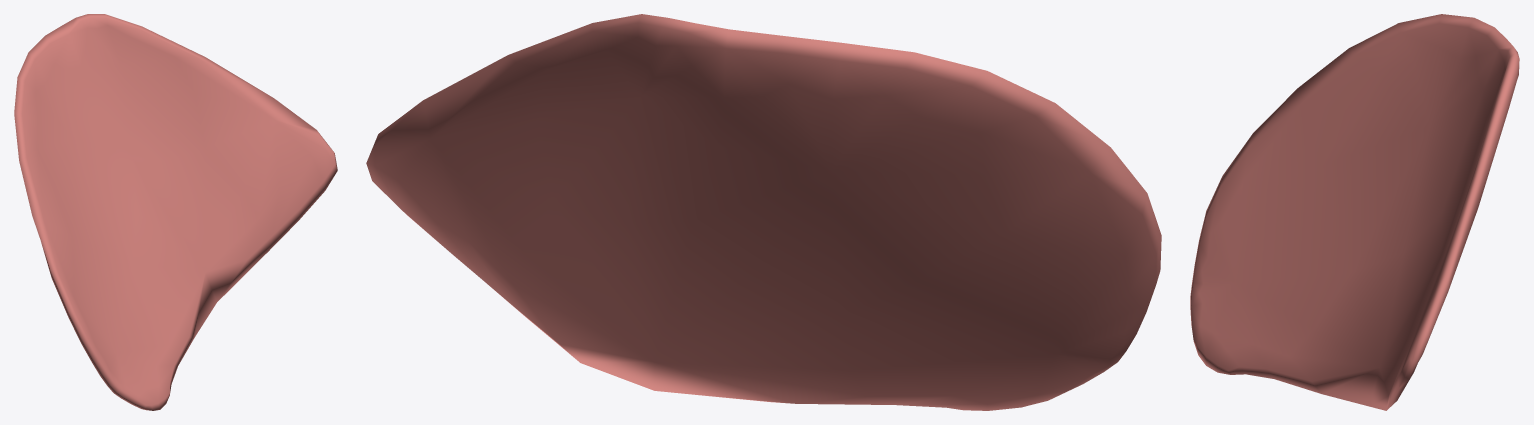
3 renders of one model, left to right at view 1: azimuth 30°, elevation 25°; view 2: azimuth 150°, elevation 25°; view 3: azimuth 270°, elevation 25°, orthographic. The views are drawn at different scales.
Visible parts, largest first — view 1: ZA_77ecda02794b5970; view 2: ZA_77ecda02794b5970; view 3: ZA_77ecda02794b5970.
Part boxes in pixels (x1,y1,x2,y2): ZA_77ecda02794b5970: [14, 14, 337, 410]; ZA_77ecda02794b5970: [366, 14, 1161, 410]; ZA_77ecda02794b5970: [1190, 14, 1519, 410].
Size of the model in its own units: 0.0159 by 0.0125 by 0.0108.
